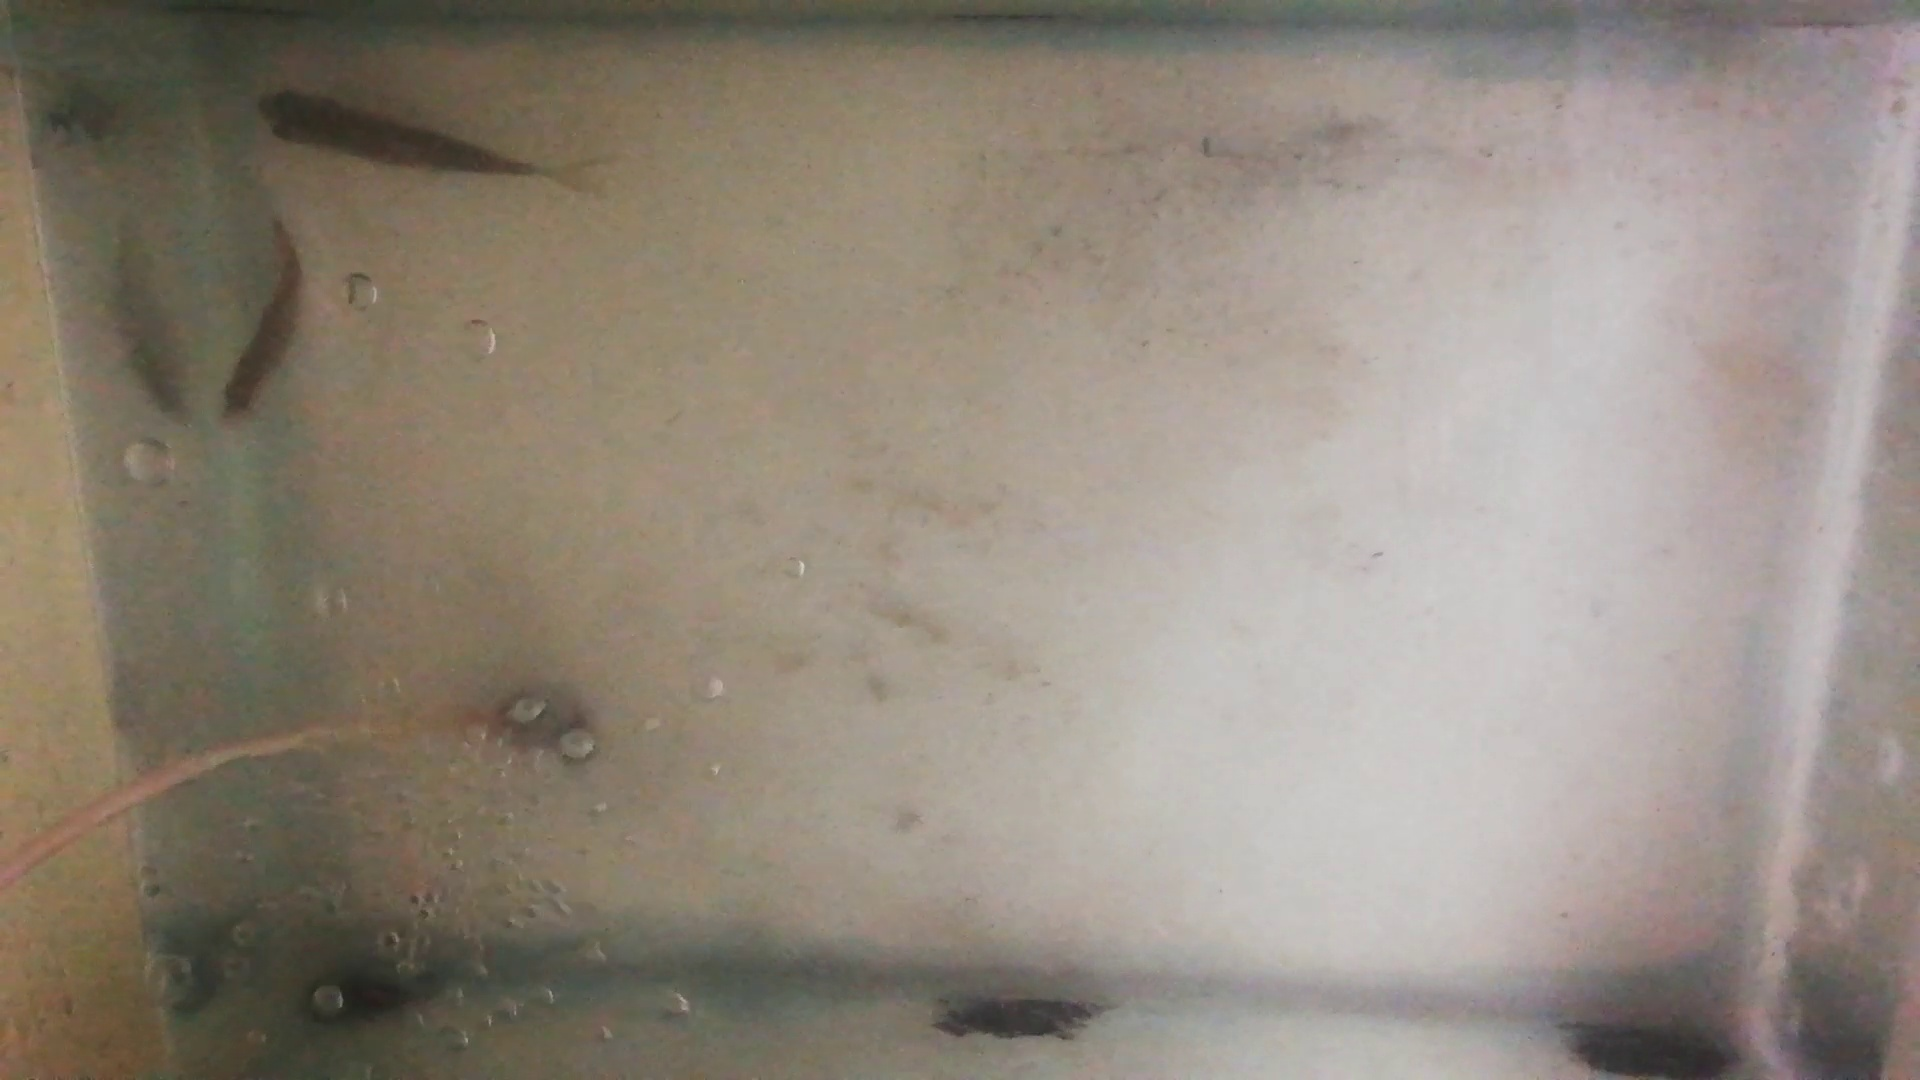fish: (249, 84, 534, 177), (214, 223, 305, 423)
